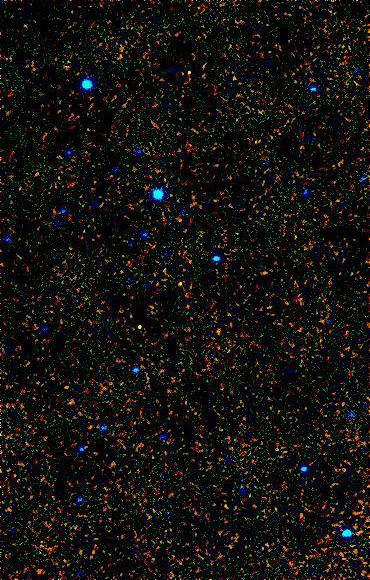star: (123, 313, 153, 343)
